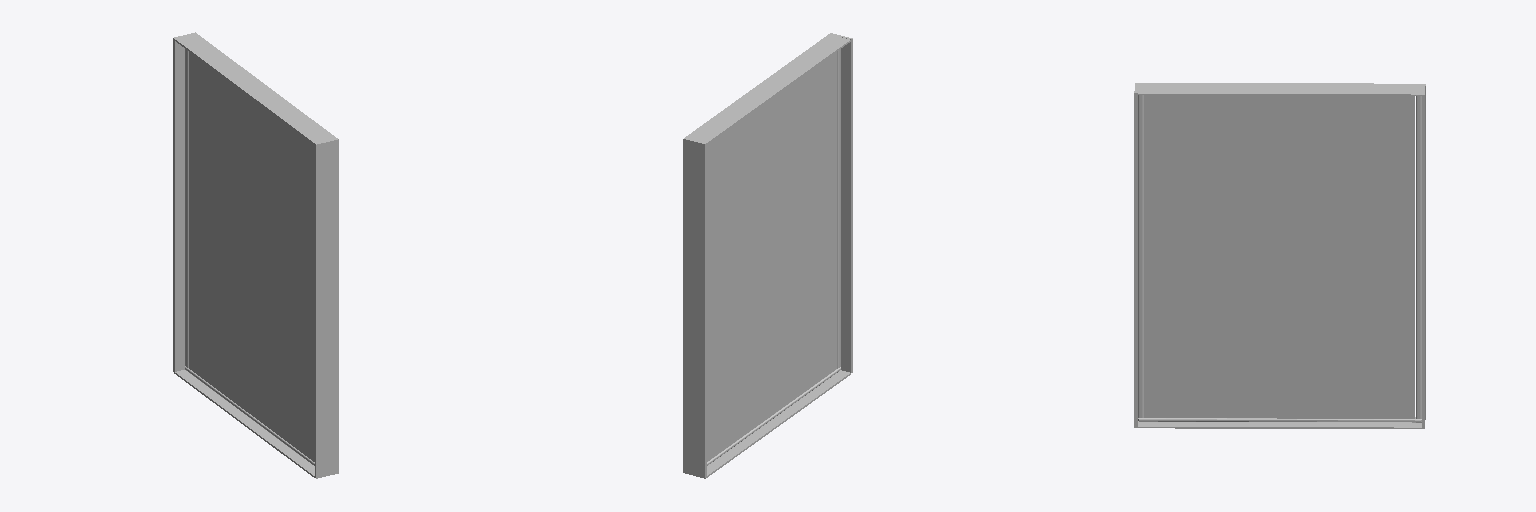
Rendered from Ventana3.obj.
3 renders of one model, left to right at view 1: azimuth 30°, elevation 25°; view 2: azimuth 150°, elevation 25°; view 3: azimuth 270°, elevation 25°, orthographic.
Visible parts, largest first — view 1: polySurface103; view 2: polySurface103; view 3: polySurface103.
Part boxes in pixels (bbox=[...]): polySurface103: bbox=[173, 32, 338, 478]; polySurface103: bbox=[683, 33, 852, 478]; polySurface103: bbox=[1134, 83, 1425, 428].
Size of the model in its own units: 0.1565 by 2.05 by 1.62.